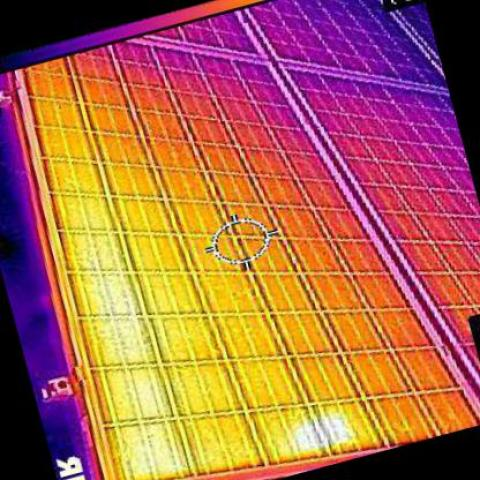fault: (291, 410, 348, 452)
